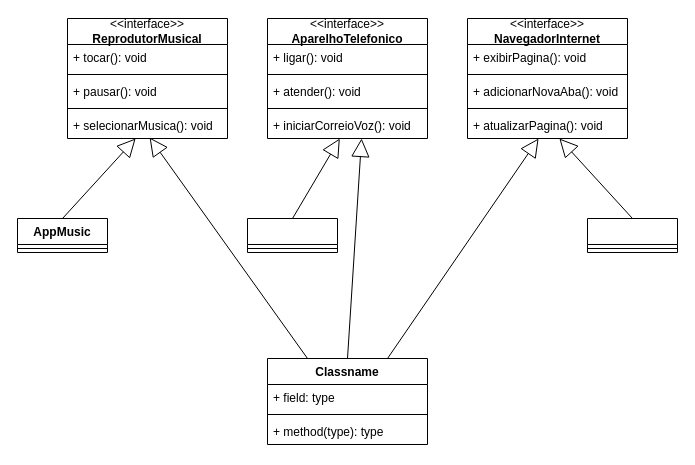
Some shapes in this 695 by 465 pixel diagram are drawn without their labels. Each missing label, with the centre of its shape:
"AppNavegador" goes at point 632,235.
"AppTelefone" goes at point 292,235.
